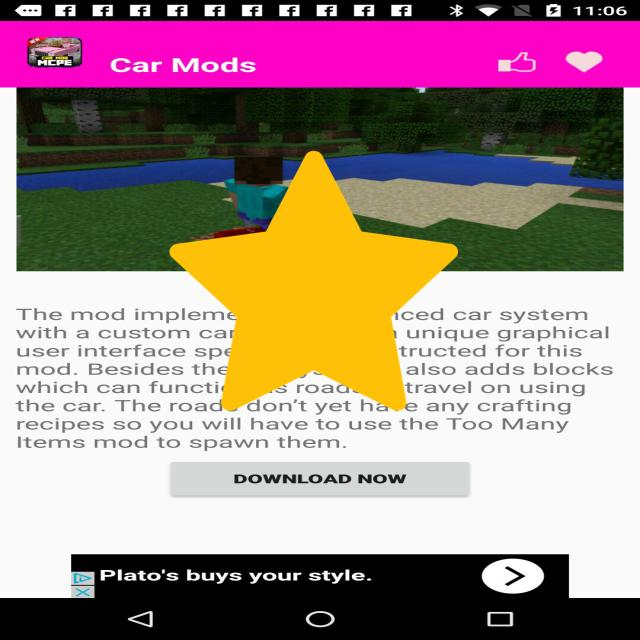forced continuity: (170, 151, 458, 411)
